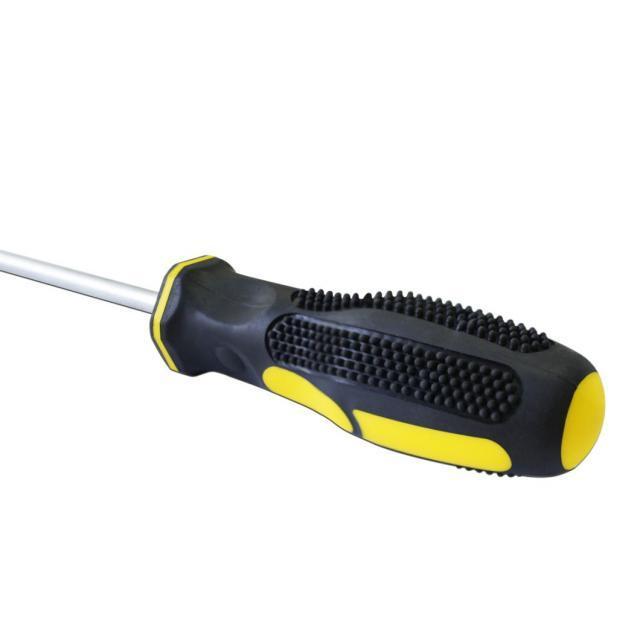screwdriver: (0, 218, 614, 484)
